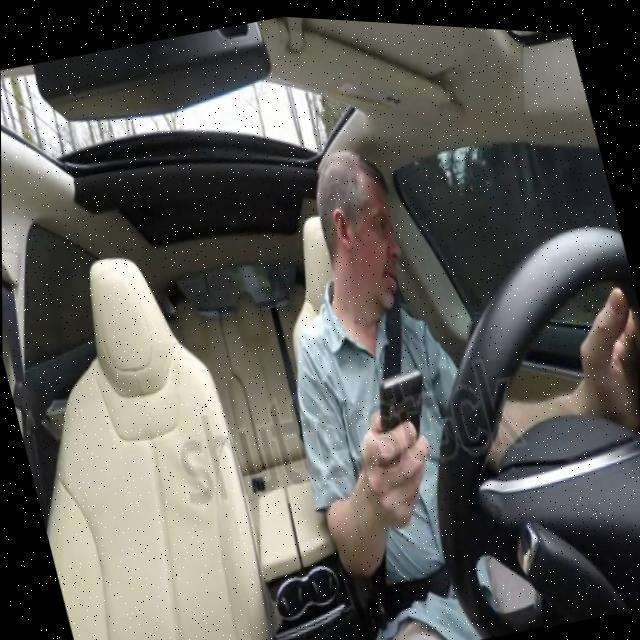PhoneCall: (366, 358, 440, 459)
